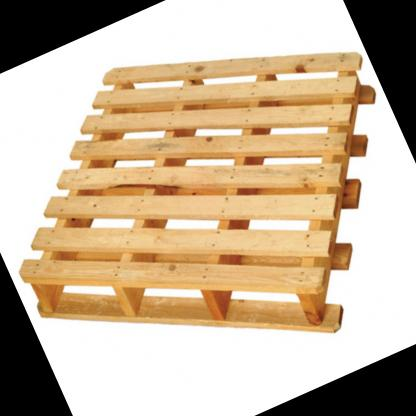BoxFace: (19, 52, 348, 326)
